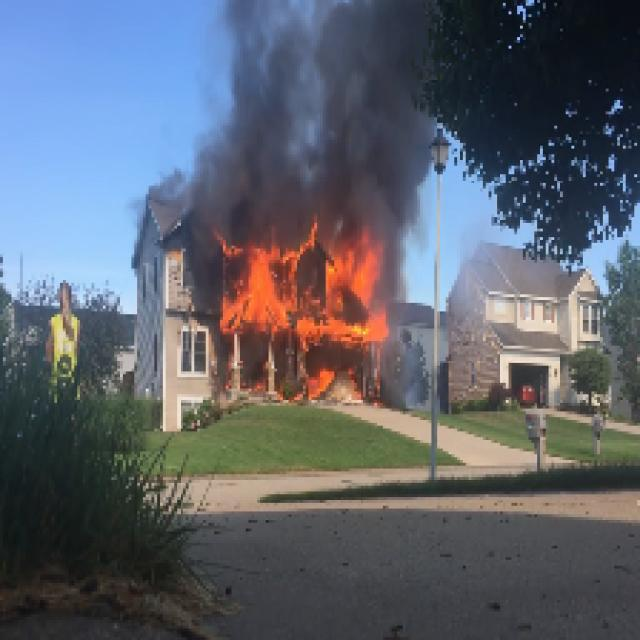Fire: (220, 242, 380, 334)
Smoke: (192, 3, 418, 214), (388, 217, 428, 383), (152, 162, 188, 212)
